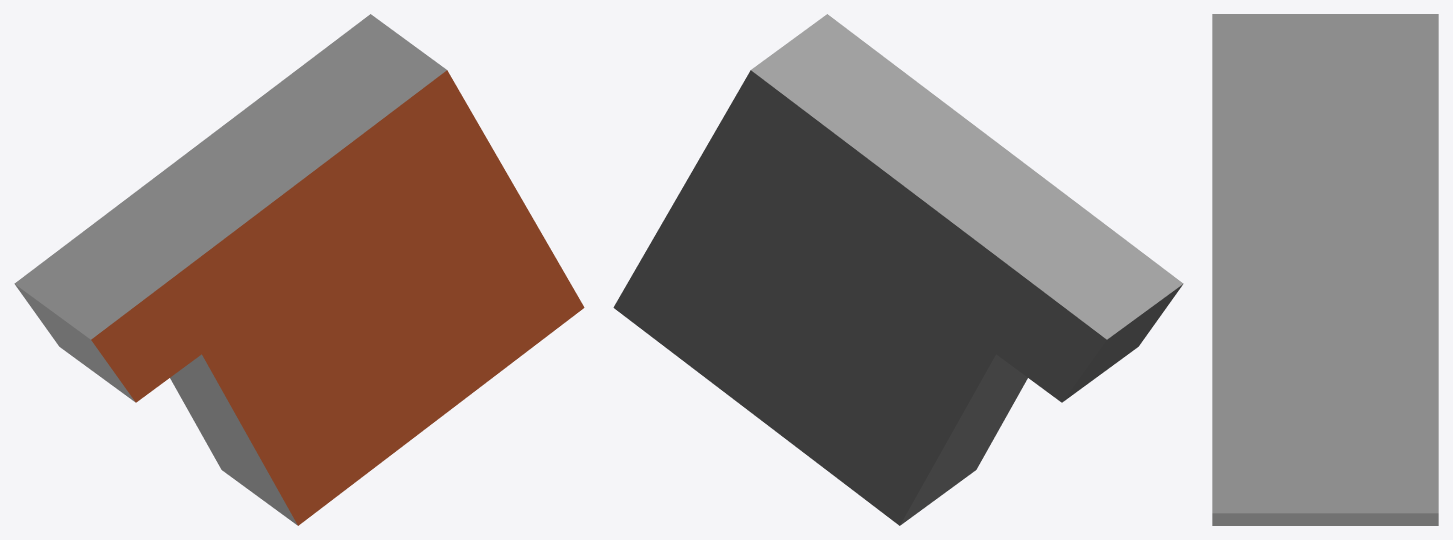
File: construction_6079_assumed_A_Casa_h6m.obj
The picture shows the model from 3 angles, left to right: view 1: azimuth 30°, elevation 25°; view 2: azimuth 150°, elevation 25°; view 3: azimuth 270°, elevation 25°; orthographic projection. The views are drawn at different scales.
Visible parts, largest first — view 1: construction_6079_assumed_A_Casa; view 2: construction_6079_assumed_A_Casa; view 3: construction_6079_assumed_A_Casa.
Boxes of the visible parts, x1,y1,x2,y2 form: construction_6079_assumed_A_Casa: (14,14,584,525); construction_6079_assumed_A_Casa: (613,14,1183,525); construction_6079_assumed_A_Casa: (1212,14,1438,525).
Size of the model in its own units: 22.32 by 18.12 by 6.
